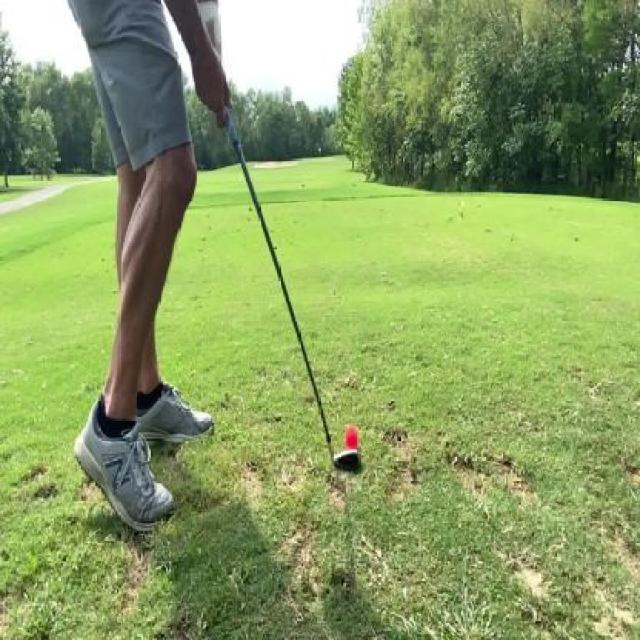club head: (327, 432, 364, 478)
